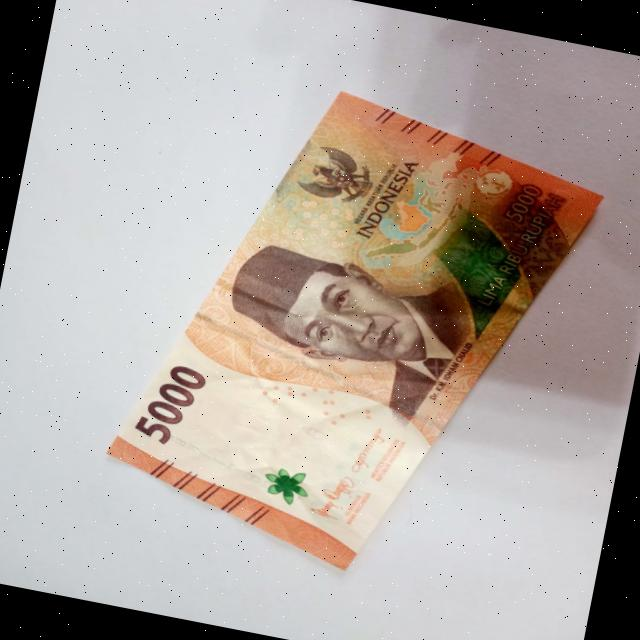5K: (101, 53, 640, 616)
